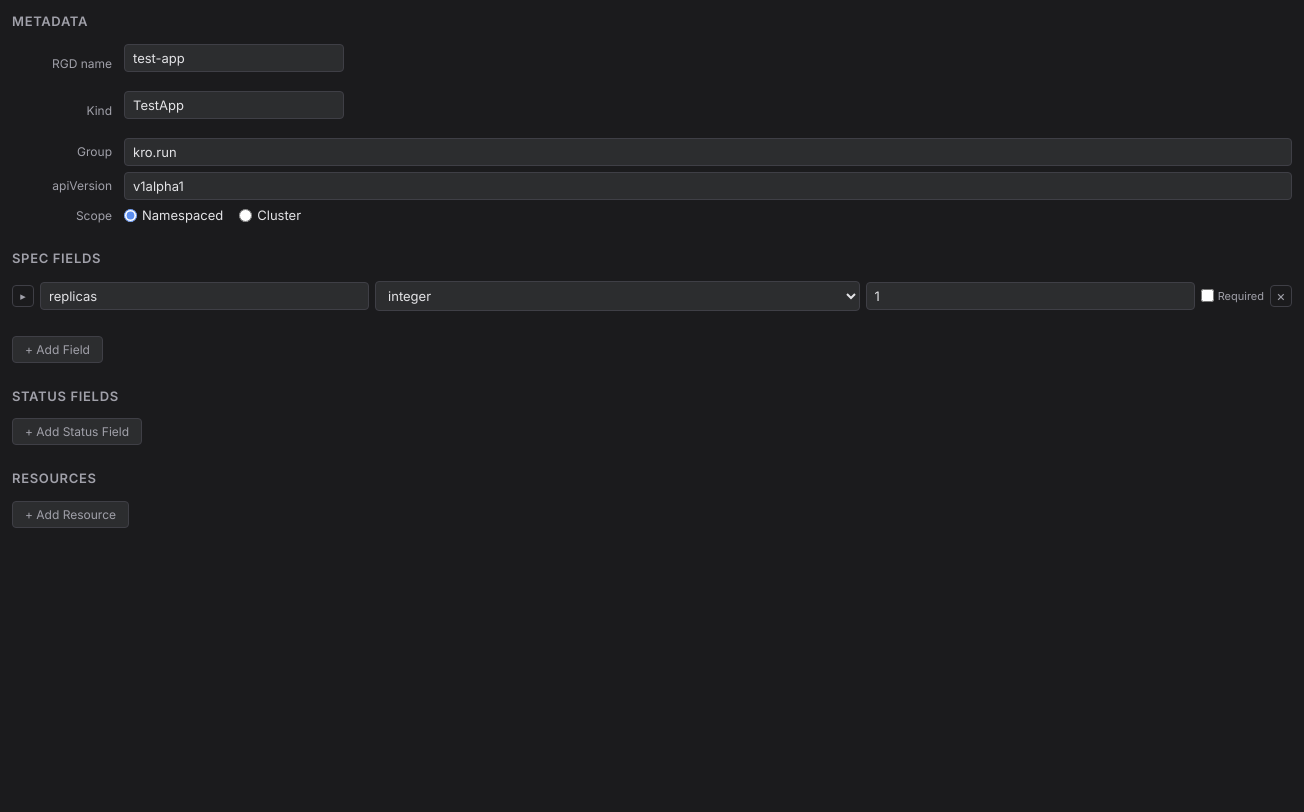
Test case: Spec field constraints (US8) › shows constraint inputs after clicking expand
Click the button with test id "field-expand-f1" at point(23, 296), box [12, 285, 34, 307]
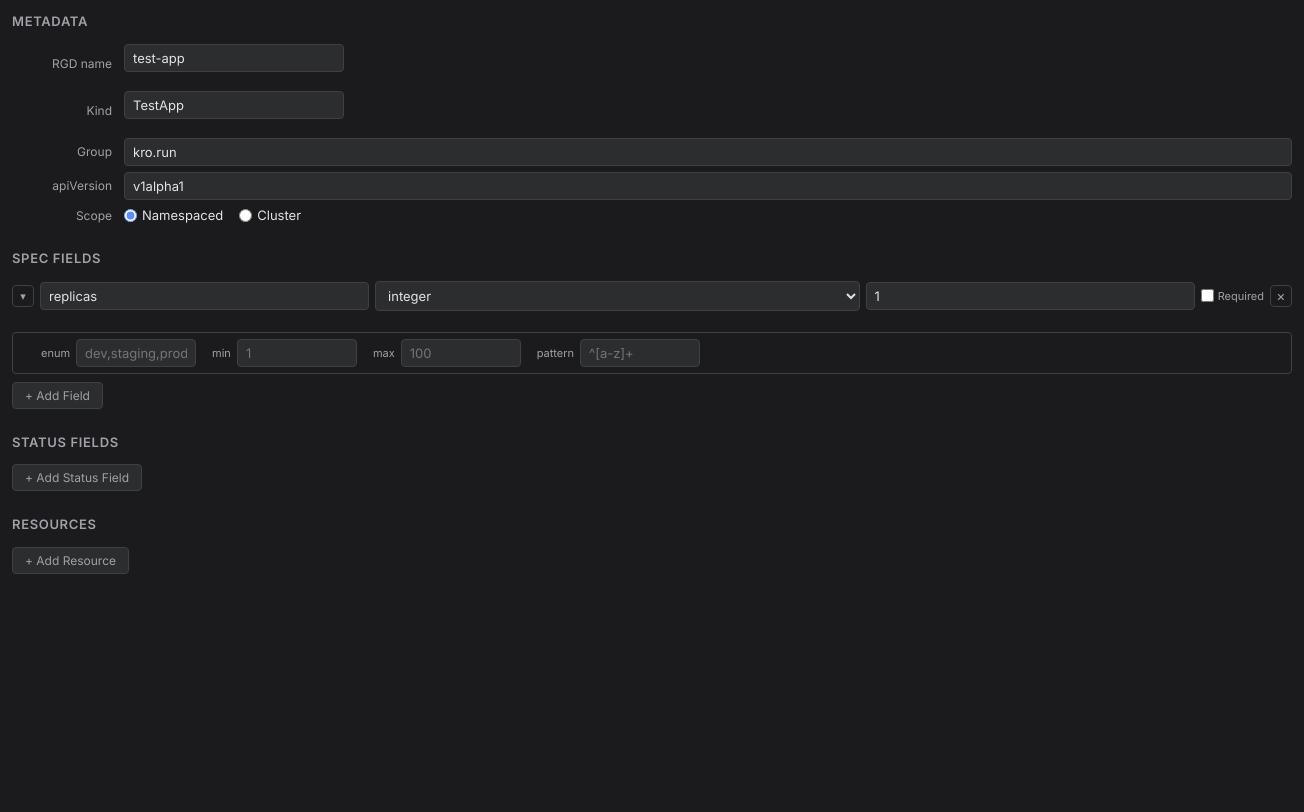
Now the number field with test id "field-min-f1" is shown, box [237, 339, 357, 367]
Now the number field with test id "field-max-f1" is shown, box [401, 339, 521, 367]
Now the field with test id "field-enum-f1" is shown, box [76, 339, 196, 367]
